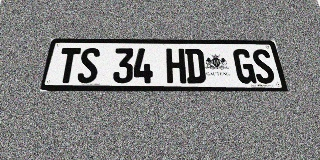3: (112, 48, 134, 83)
4: (133, 48, 153, 83)
D: (185, 49, 206, 83)
G: (232, 49, 257, 83)
H: (166, 48, 186, 83)
S: (251, 49, 276, 84), (76, 48, 100, 83)
T: (55, 48, 81, 83)
